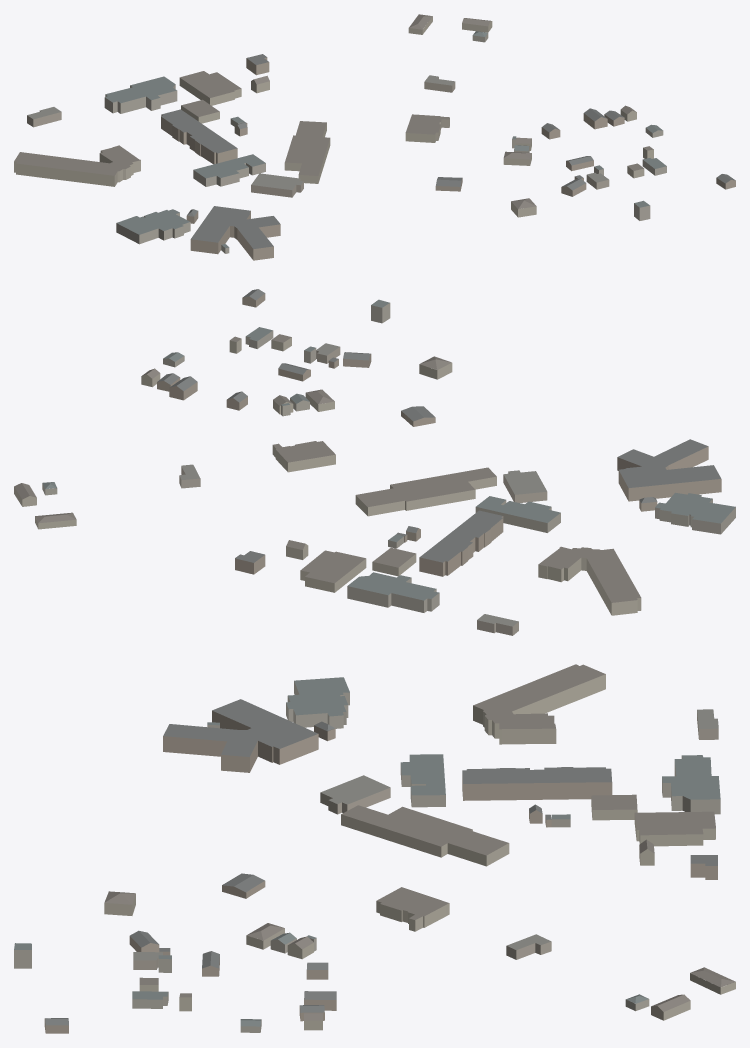
File: 05b2654064ef-chunk-1195_11840.glb
The picture shows the model from 3 angles, top to bottom: view 1: azimuth 30°, elevation 25°; view 2: azimuth 150°, elevation 25°; view 3: azimuth 270°, elevation 25°; orthographic projection. The views are drawn at different scales.
Parts seen in each view (by area): view 1: building_104756, building_149153, building_35154, building_35332, building_92214, building_167992, building_15961, building_37550, building_162530, building_117745, building_100257, building_87749; view 2: building_149153, building_104756, building_35332, building_35154, building_92214, building_167992, building_37550, building_15961, building_162530, building_117745, building_100257, building_87749 (+3 smaller); view 3: building_149153, building_104756, building_35332, building_35154, building_167992, building_92214, building_37550, building_15961, building_162530, building_117745, building_100257, building_150543 (+8 smaller).
Part boxes in pixels (left/top/right/bottom): building_104756: left=14, top=145, right=140, bottom=186; building_149153: left=190, top=206, right=280, bottom=260; building_35154: left=161, top=109, right=237, bottom=164; building_35332: left=284, top=121, right=330, bottom=183; building_92214: left=104, top=76, right=177, bottom=113; building_167992: left=116, top=209, right=190, bottom=244; building_15961: left=193, top=154, right=265, bottom=186; building_37550: left=179, top=71, right=241, bottom=105; building_162530: left=405, top=114, right=449, bottom=142; building_117745: left=251, top=173, right=303, bottom=197; building_100257: left=181, top=99, right=219, bottom=123; building_87749: left=27, top=107, right=61, bottom=127; building_149153: left=617, top=439, right=721, bottom=501; building_104756: left=538, top=546, right=641, bottom=615; building_35332: left=355, top=467, right=496, bottom=516; building_35154: left=419, top=510, right=503, bottom=576; building_92214: left=347, top=572, right=439, bottom=612; building_167992: left=655, top=492, right=735, bottom=534; building_37550: left=300, top=550, right=366, bottom=592; building_15961: left=475, top=496, right=560, bottom=532; building_162530: left=272, top=441, right=335, bottom=472; building_117745: left=503, top=470, right=547, bottom=502; building_100257: left=372, top=547, right=416, bottom=576; building_87749: left=477, top=614, right=518, bottom=635; building_149153: left=163, top=699, right=318, bottom=772; building_104756: left=473, top=664, right=605, bottom=744; building_35332: left=341, top=805, right=509, bottom=866; building_35154: left=462, top=767, right=612, bottom=800; building_167992: left=286, top=677, right=349, bottom=728; building_92214: left=662, top=755, right=720, bottom=814; building_37550: left=634, top=811, right=715, bottom=846; building_15961: left=400, top=754, right=445, bottom=807; building_162530: left=376, top=887, right=449, bottom=931; building_117745: left=320, top=775, right=390, bottom=814; building_100257: left=591, top=794, right=637, bottom=820; building_150543: left=506, top=934, right=551, bottom=959.
Size of the model in its own units: 418 by 10.16 by 360.
